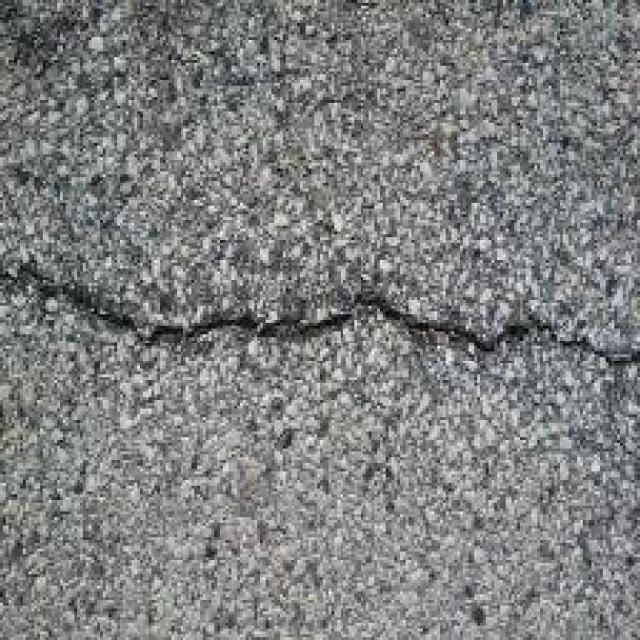crack: (4, 242, 640, 412)
